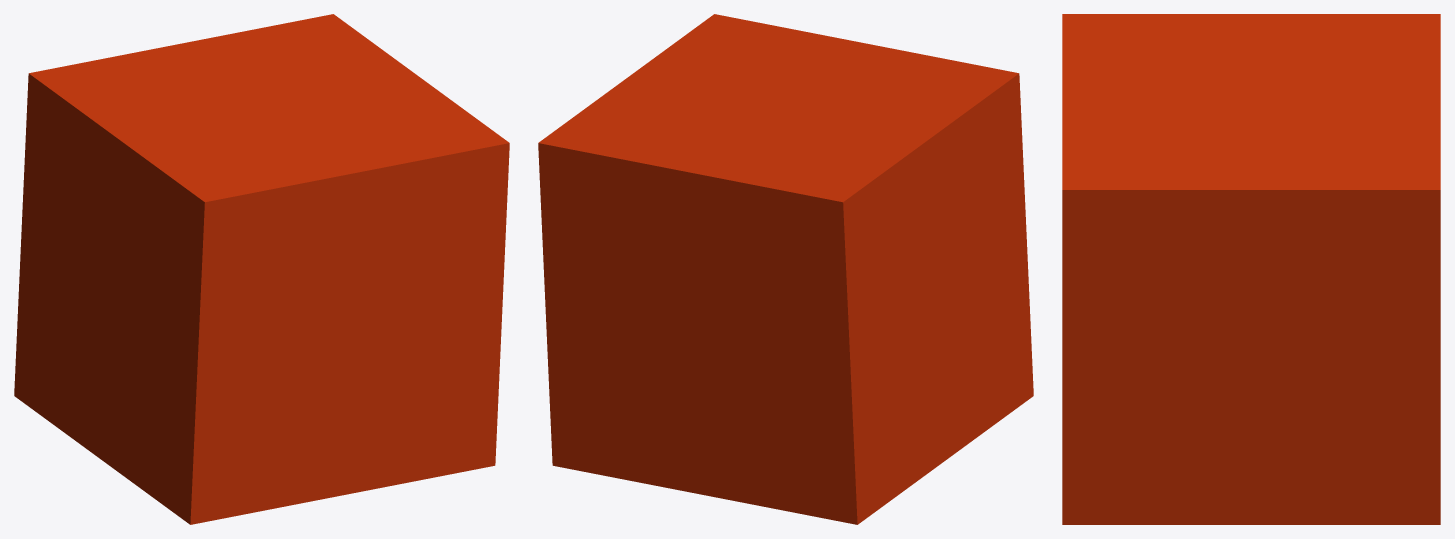
The model's file is Pacco.fbx.
The picture shows the model from 3 angles, left to right: view 1: azimuth 30°, elevation 25°; view 2: azimuth 150°, elevation 25°; view 3: azimuth 270°, elevation 25°; orthographic projection. The views are drawn at different scales.
Visible parts, largest first — view 1: Cube; view 2: Cube; view 3: Cube.
Part boxes in pixels (bbox=[...]): Cube: bbox=[14, 14, 509, 524]; Cube: bbox=[538, 14, 1033, 524]; Cube: bbox=[1062, 14, 1440, 524].
Size of the model in its own units: 209 by 209 by 200.
